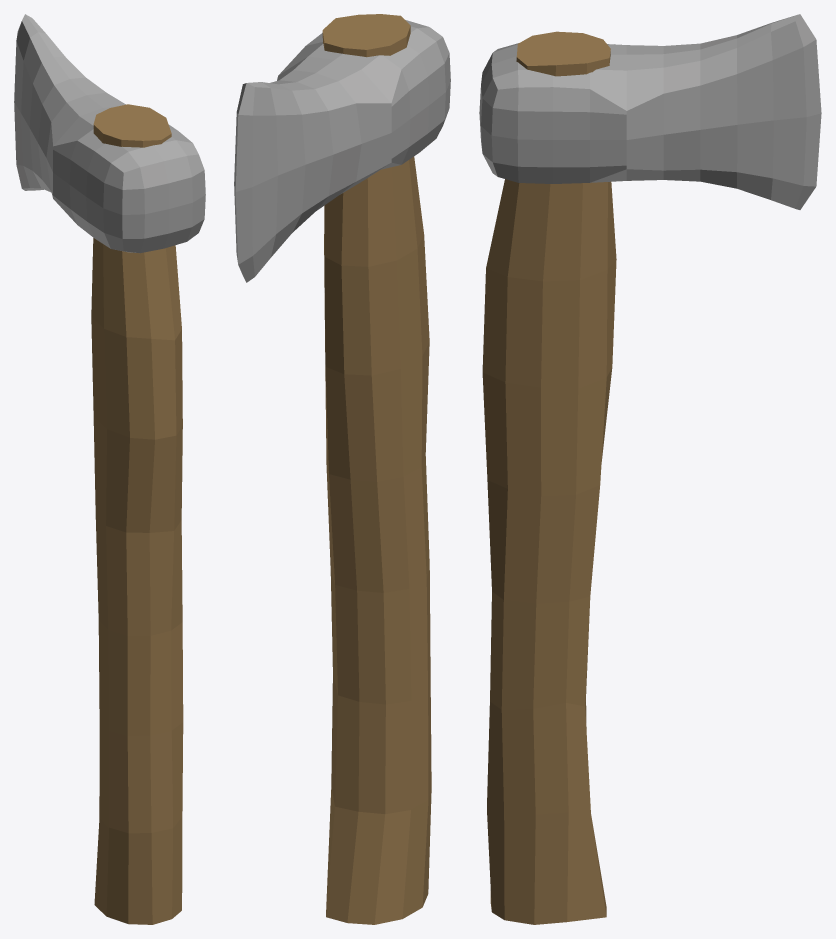
File: axe2.fbx
The picture shows the model from 3 angles, left to right: view 1: azimuth 30°, elevation 25°; view 2: azimuth 150°, elevation 25°; view 3: azimuth 270°, elevation 25°; orthographic projection. The views are drawn at different scales.
Parts seen in each view (by area): view 1: Cube; view 2: Cube; view 3: Cube.
Boxes of the visible parts, box(x1,y1,x2,y2) form: Cube: box(14, 14, 205, 924); Cube: box(234, 14, 450, 924); Cube: box(479, 14, 821, 924).
Size of the model in its own units: 285 by 2193 by 759.
